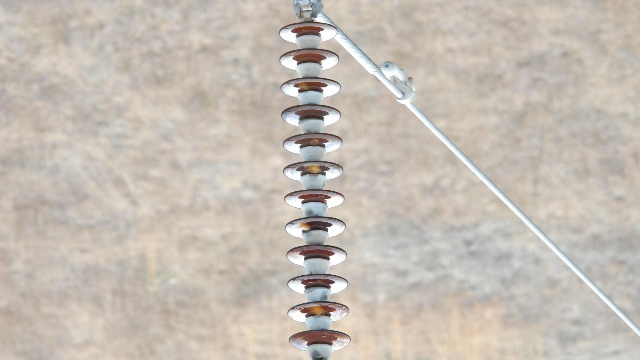insulator_unspecified: (278, 21, 351, 351)
pollution_flashover_local: (305, 299, 325, 316), (303, 162, 322, 174), (296, 222, 312, 232), (297, 80, 309, 92), (310, 138, 320, 146)
